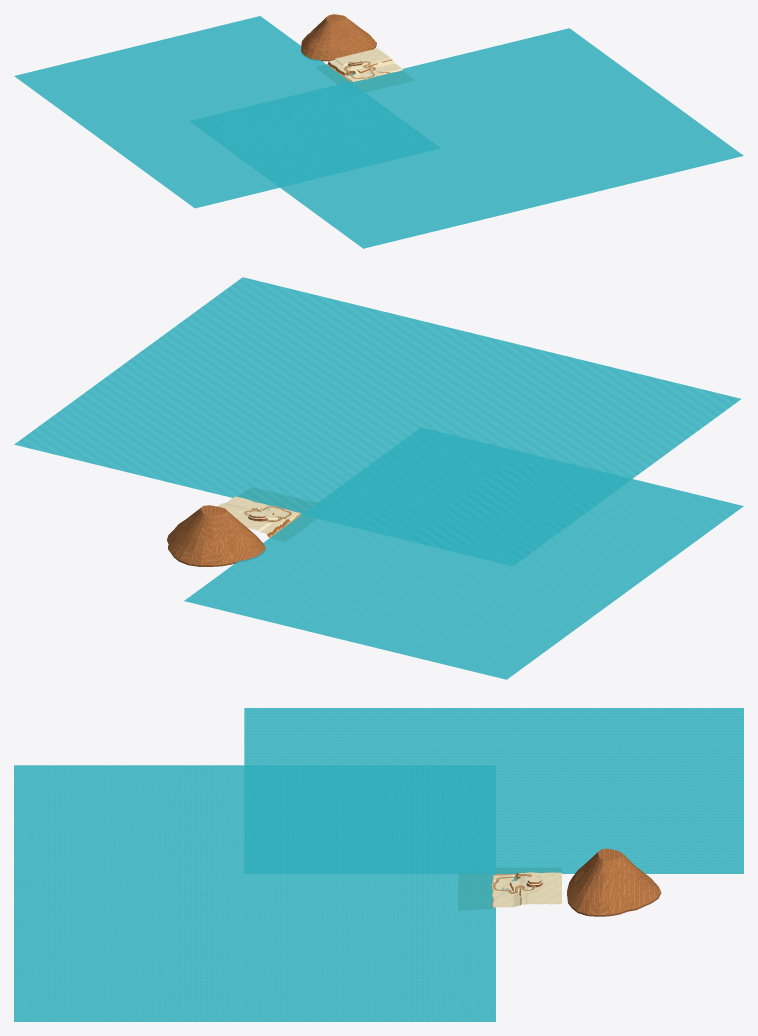
The picture shows the model from 3 angles, top to bottom: view 1: azimuth 30°, elevation 25°; view 2: azimuth 150°, elevation 25°; view 3: azimuth 270°, elevation 25°; orthographic projection. The views are drawn at different scales.
Visible parts, largest first — view 1: Sea South, Sea West, Volcano, Sand; view 2: Sea South, Sea West, Volcano, Sand; view 3: Sea South, Sea West, Volcano, Sand.
Boxes of the visible parts, left/top/right/bottom form: Sea South: left=191, top=28, right=743, bottom=248; Sea West: left=14, top=16, right=440, bottom=208; Volcano: left=301, top=14, right=376, bottom=61; Sand: left=326, top=48, right=402, bottom=82; Sea South: left=14, top=277, right=740, bottom=565; Sea West: left=184, top=427, right=743, bottom=679; Volcano: left=167, top=505, right=265, bottom=566; Sand: left=217, top=496, right=301, bottom=537; Sea South: left=14, top=765, right=495, bottom=1021; Sea West: left=244, top=708, right=743, bottom=873; Volcano: left=567, top=848, right=661, bottom=916; Sand: left=491, top=872, right=561, bottom=908.
Bounding box in the file's own units: 4160 × 241 × 4090.
Materials: 10 (10 with a texture image).
